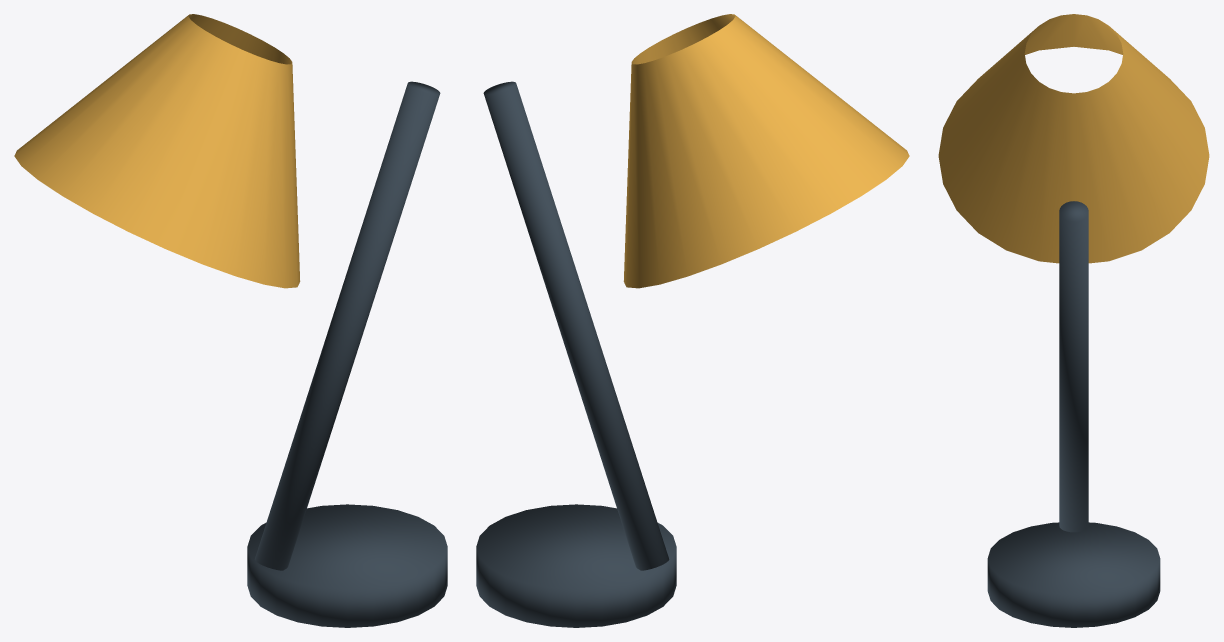
The model's file is desk_lamp.glb.
The picture shows the model from 3 angles, left to right: view 1: azimuth 30°, elevation 25°; view 2: azimuth 150°, elevation 25°; view 3: azimuth 270°, elevation 25°; orthographic projection. The views are drawn at different scales.
Visible parts, largest first — view 1: shade, base, arm; view 2: shade, base, arm; view 3: shade, base, arm.
Part boxes in pixels (left/top/right/bottom): shade: left=14, top=14, right=300, bottom=288; base: left=247, top=504, right=447, bottom=627; arm: left=254, top=81, right=440, bottom=570; shade: left=623, top=14, right=909, bottom=288; base: left=476, top=504, right=676, bottom=627; arm: left=483, top=81, right=669, bottom=570; shade: left=938, top=14, right=1209, bottom=263; base: left=987, top=522, right=1160, bottom=627; arm: left=1059, top=201, right=1088, bottom=532.
Bounding box in the file's own units: 0.3231 × 0.4606 × 0.22.
